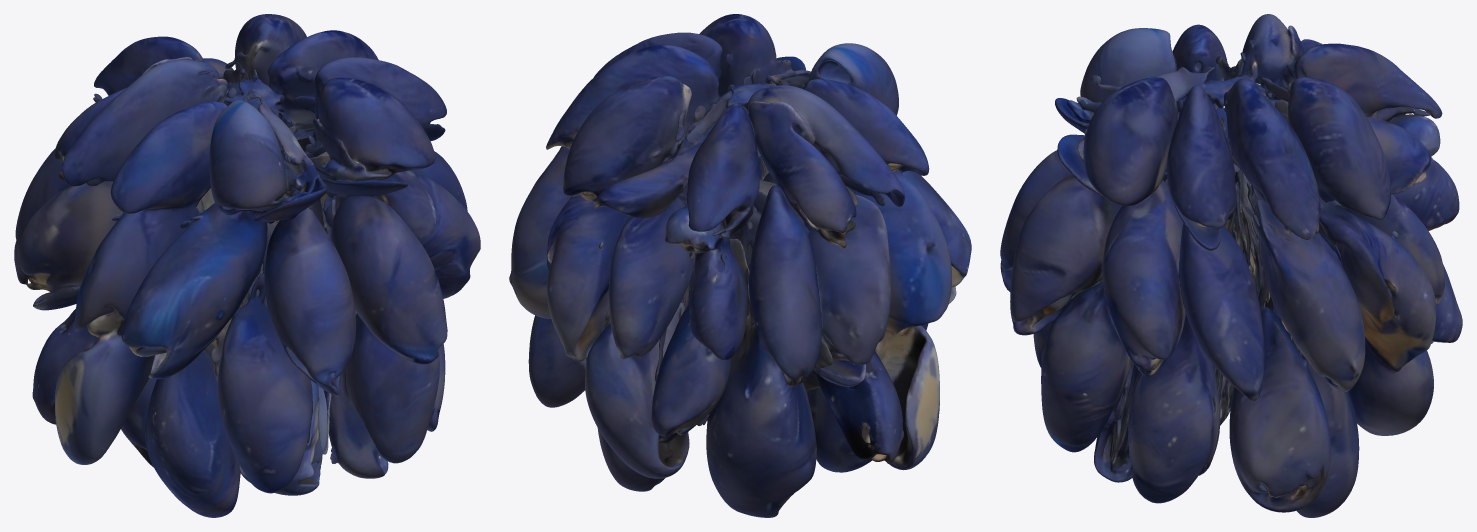
Rendered from mussel_clump_d.glb.
The picture shows the model from 3 angles, left to right: view 1: azimuth 30°, elevation 25°; view 2: azimuth 150°, elevation 25°; view 3: azimuth 270°, elevation 25°; orthographic projection. The views are drawn at different scales.
Visible parts, largest first — view 1: tripo_node_b898f77a-f842-4cee-a69b-0fd181c713b0; view 2: tripo_node_b898f77a-f842-4cee-a69b-0fd181c713b0; view 3: tripo_node_b898f77a-f842-4cee-a69b-0fd181c713b0.
Boxes of the visible parts, left/top/right/bottom form: tripo_node_b898f77a-f842-4cee-a69b-0fd181c713b0: left=14, top=14, right=480, bottom=517; tripo_node_b898f77a-f842-4cee-a69b-0fd181c713b0: left=509, top=14, right=971, bottom=517; tripo_node_b898f77a-f842-4cee-a69b-0fd181c713b0: left=1000, top=14, right=1462, bottom=517.
Bounding box in the file's own units: 0.9819 × 0.9999 × 0.9667.
Materials: 1 (1 with a texture image).
